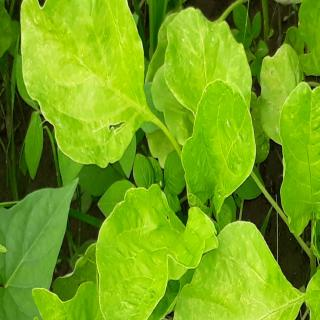karat_putih: (21, 7, 127, 154), (175, 231, 283, 320)
